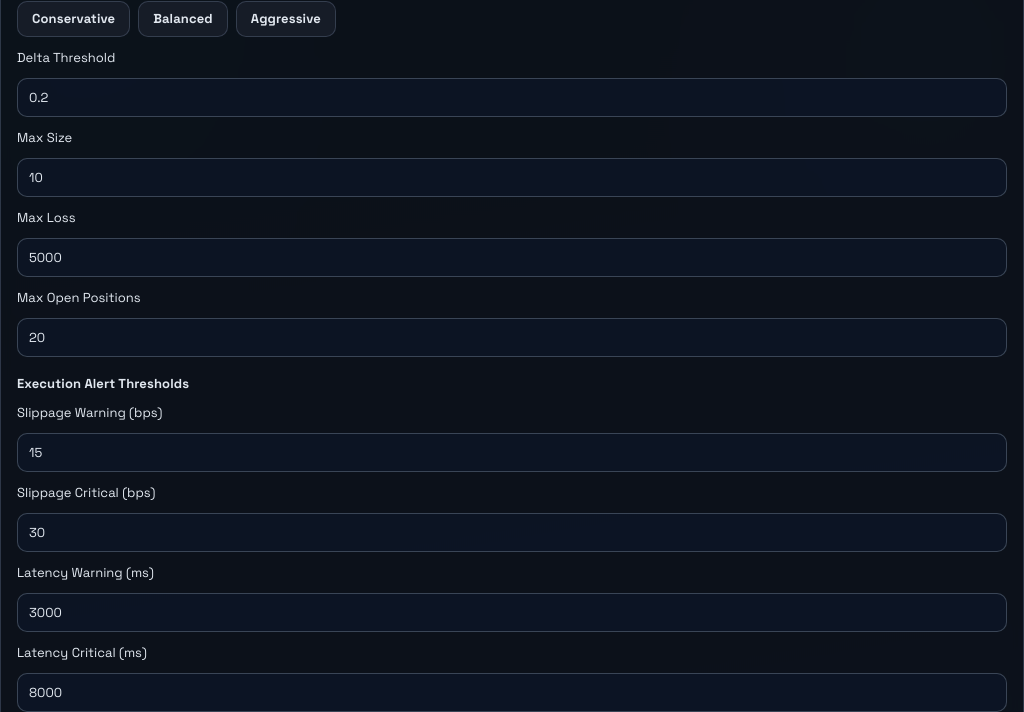
DashboardPage Risk Controls › shows validation errors and blocks submit
This screenshot has width=1024, height=712.
(page scrolled)
Replace the text in the field labelled "Max Open Positions" with "0" at (512, 337), box x1=17 y1=318 x2=1007 y2=356
(page scrolled)
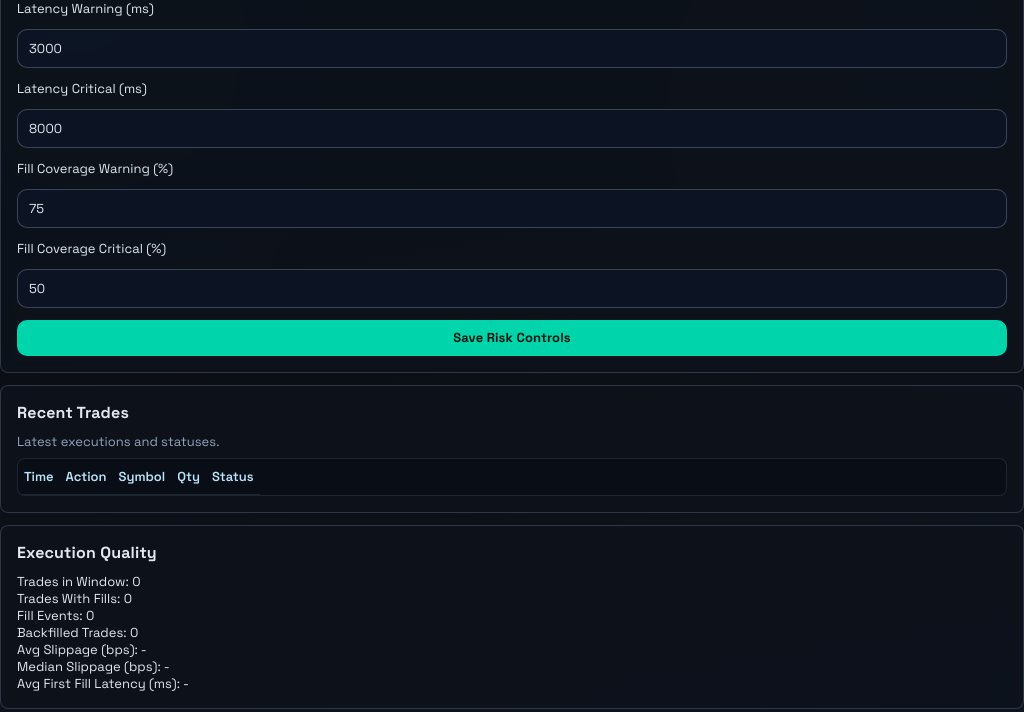
Click the button "Save Risk Controls" at (512, 338), box x1=17 y1=320 x2=1007 y2=356
(page scrolled)
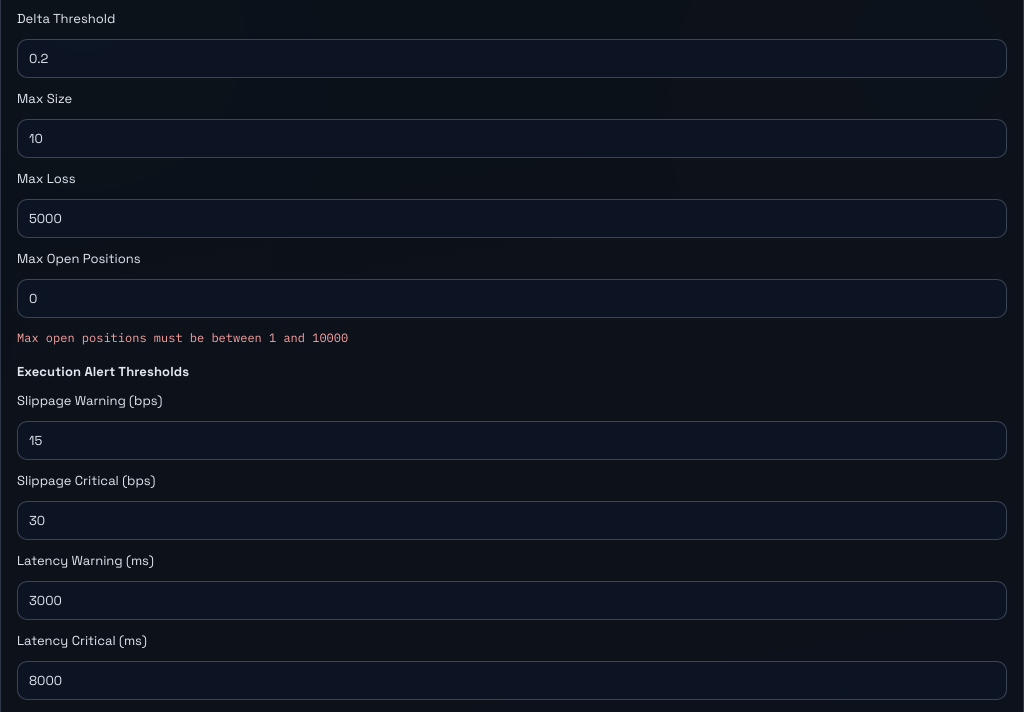
Result: the text "Max open positions must be between 1 and 10000" is shown at x1=17 y1=330 x2=348 y2=344
